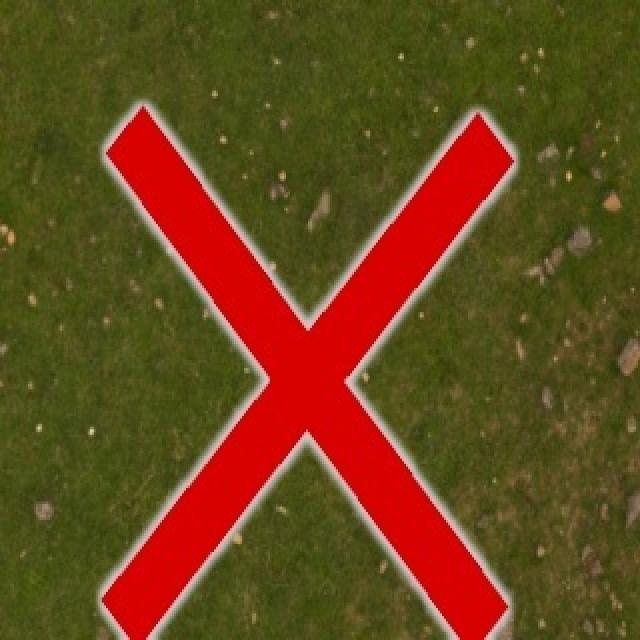x_marker: (101, 105, 513, 639)
